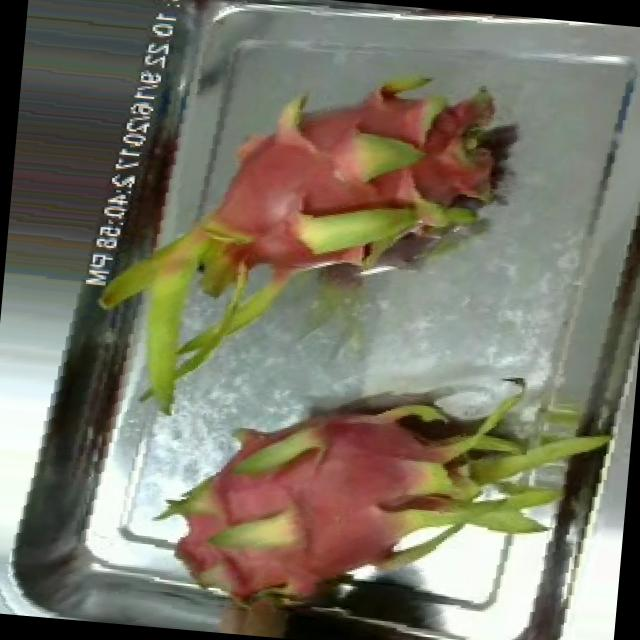Fruit: (394, 70, 540, 226)
